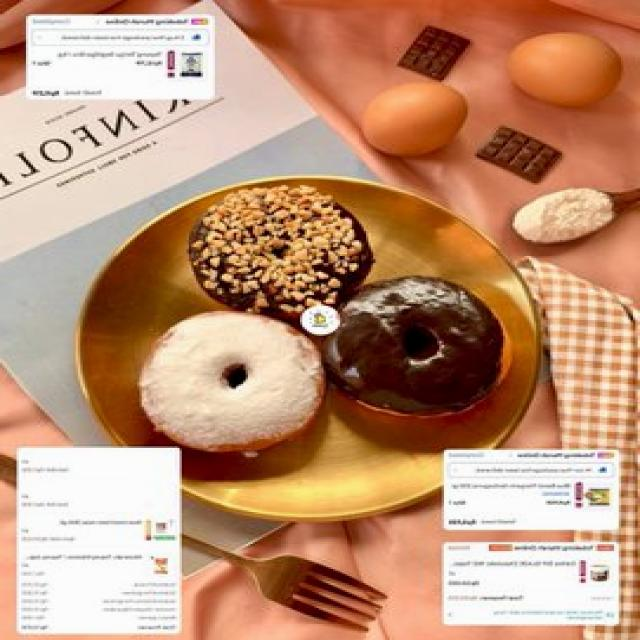donat: (139, 311, 328, 459), (187, 183, 375, 331), (319, 277, 505, 418)
